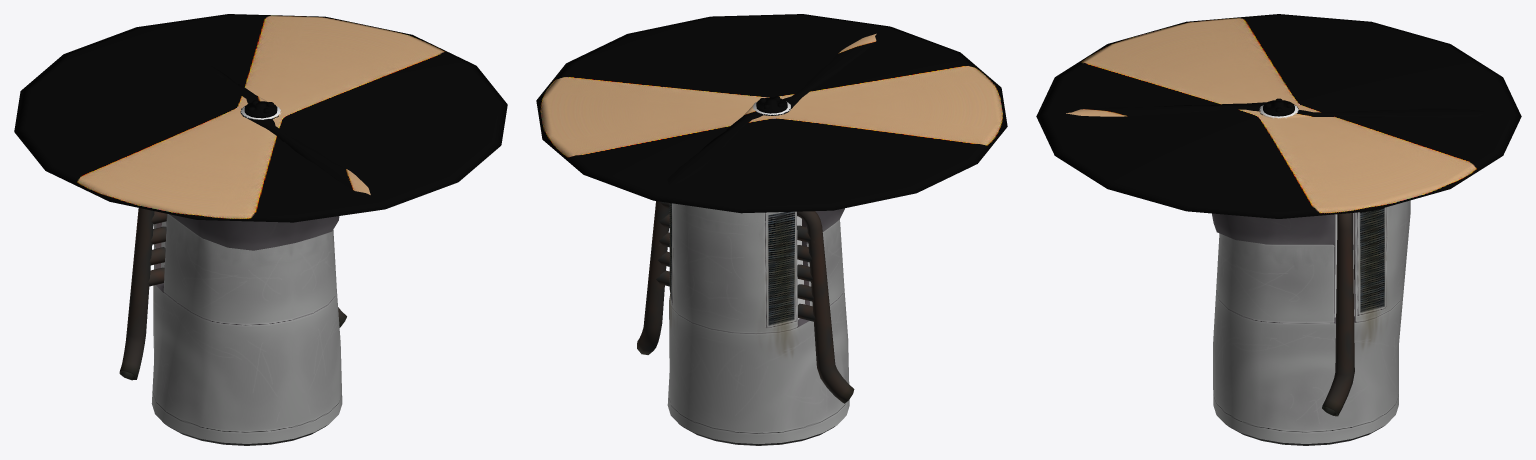
File: AJEE-EVee-r2.fbx
3 renders of one model, left to right at view 1: azimuth 30°, elevation 25°; view 2: azimuth 150°, elevation 25°; view 3: azimuth 270°, elevation 25°, orthographic. The views are drawn at different scales.
Parts seen in each view (by area): view 1: Spinner, EngineBody, Prop; view 2: Spinner, EngineBody, Prop; view 3: Spinner, EngineBody, Prop.
Part boxes in pixels (box(x1,y1,x2,y2)): Spinner: box(14, 14, 507, 222); EngineBody: box(119, 208, 346, 445); Prop: box(151, 34, 370, 194); Spinner: box(536, 14, 1007, 213); EngineBody: box(637, 201, 854, 445); Prop: box(667, 33, 876, 186); Spinner: box(1036, 14, 1521, 218); EngineBody: box(1212, 200, 1410, 445); Prop: box(1066, 98, 1492, 118).
Size of what is drawn, in the model's own units: 327 by 227 by 327.
